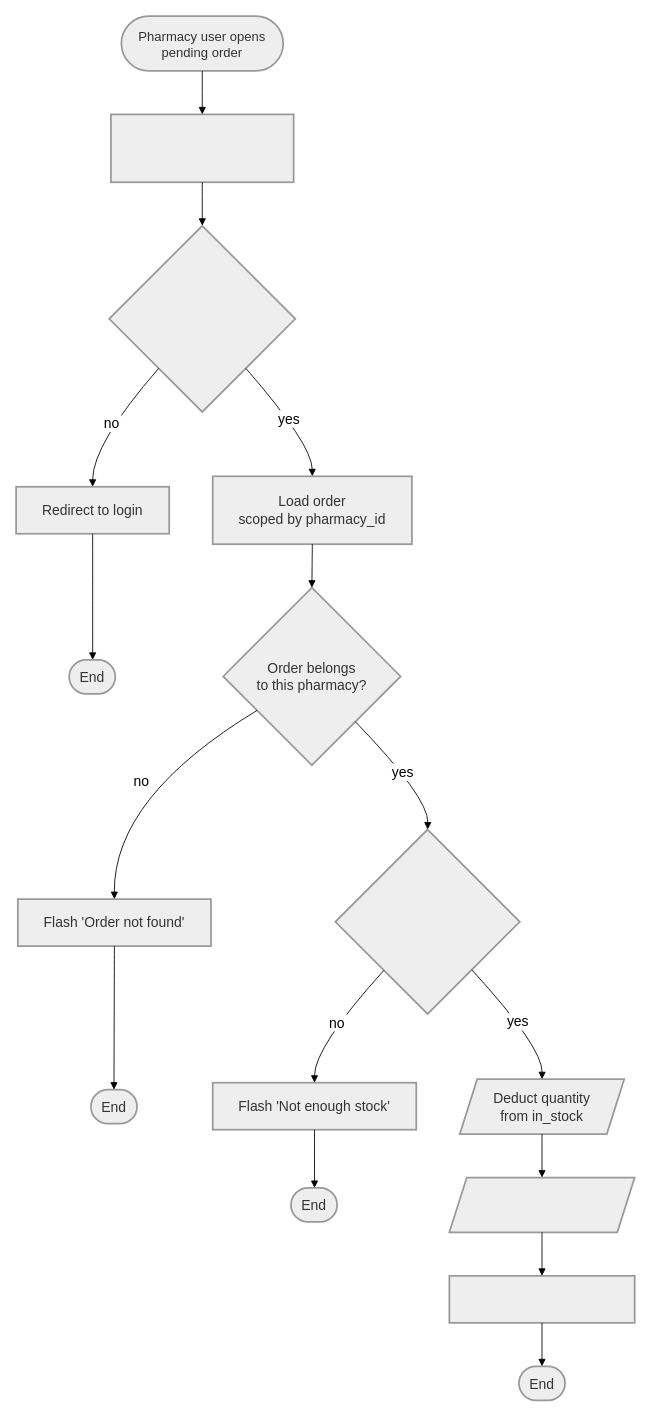
This 650x1415 diagram has some shape labels left out. The shapes that lost their labels are listed below. From the top down, each one's centre as x and y in pixels, then its label:
At pixel 202 148: "Submit status update = completed".
At pixel 202 318: "Authenticated as pharmacy user?".
At pixel 427 921: "Linked medicine has enough stock?".
At pixel 541 1204: "Update order: status = completed".
At pixel 541 1299: "Flash 'Order updated'".
